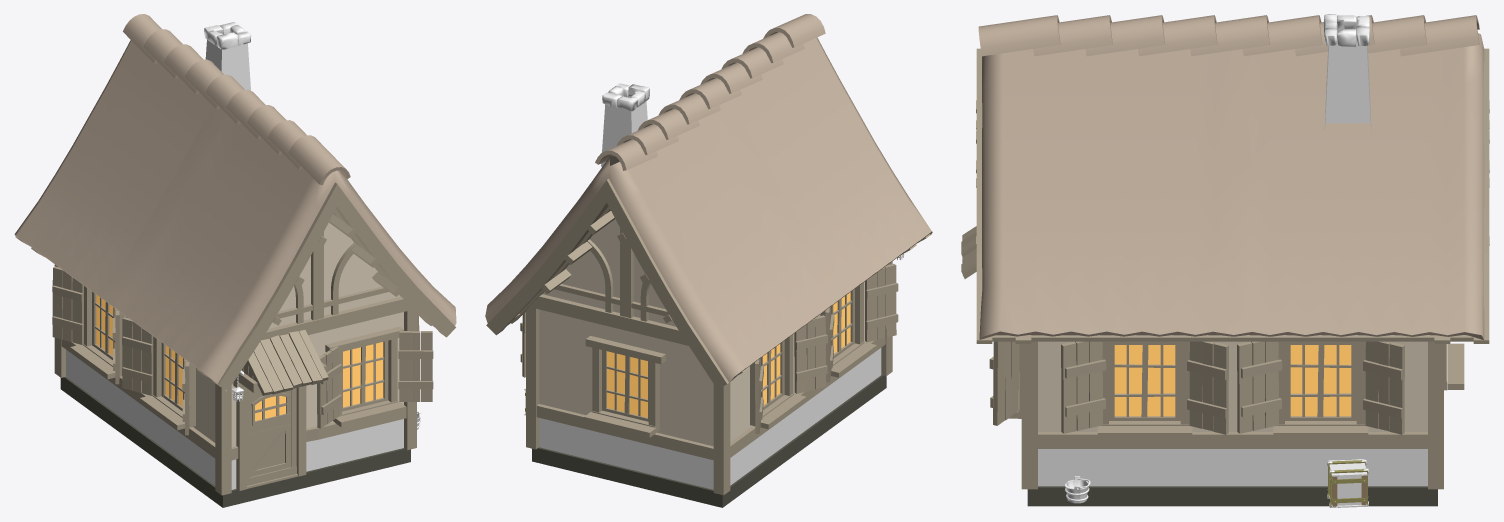
Rendered from eastbrook_shuttered.glb.
3 renders of one model, left to right at view 1: azimuth 30°, elevation 25°; view 2: azimuth 150°, elevation 25°; view 3: azimuth 270°, elevation 25°, orthographic. The views are drawn at different scales.
Visible parts, largest first — view 1: village/MI_RoundTiles, village/MI_WoodTrim, village/MI_WoodTrim_Wear, village/MI_Plaster, village/MI_UnevenBrick, object 8, village/MI_WindowGlass, village/MI_RockTrim, village/MI_Brick; view 2: village/MI_RoundTiles, village/MI_WoodTrim, village/MI_Plaster, village/MI_UnevenBrick, object 8, village/MI_WoodTrim_Wear, village/MI_WindowGlass, village/MI_Brick, village/MI_RockTrim; view 3: village/MI_RoundTiles, village/MI_WoodTrim, village/MI_WoodTrim_Wear, village/MI_UnevenBrick, object 8, village/MI_WindowGlass, village/MI_Plaster, village/MI_Brick, props/MI_Trim_Furniture, village/MI_RockTrim.
Boxes of the visible parts, x1=… form: village/MI_RoundTiles: x1=14, y1=14, x2=456, y2=384; village/MI_WoodTrim: x1=15, y1=182, x2=455, y2=495; village/MI_WoodTrim_Wear: x1=52, y1=266, x2=433, y2=435; village/MI_Plaster: x1=126, y1=222, x2=403, y2=446; village/MI_UnevenBrick: x1=66, y1=349, x2=403, y2=485; object 8: x1=60, y1=377, x2=410, y2=507; village/MI_WindowGlass: x1=96, y1=295, x2=383, y2=420; village/MI_RockTrim: x1=204, y1=22, x2=316, y2=489; village/MI_Brick: x1=205, y1=40, x2=250, y2=90; village/MI_RoundTiles: x1=485, y1=14, x2=932, y2=382; village/MI_WoodTrim: x1=486, y1=178, x2=932, y2=495; village/MI_Plaster: x1=539, y1=219, x2=866, y2=446; village/MI_UnevenBrick: x1=539, y1=348, x2=881, y2=489; object 8: x1=532, y1=375, x2=886, y2=507; village/MI_WoodTrim_Wear: x1=520, y1=264, x2=898, y2=433; village/MI_WindowGlass: x1=607, y1=292, x2=850, y2=417; village/MI_Brick: x1=601, y1=96, x2=647, y2=166; village/MI_RockTrim: x1=602, y1=83, x2=649, y2=111; village/MI_RoundTiles: x1=978, y1=15, x2=1484, y2=339; village/MI_WoodTrim: x1=976, y1=48, x2=1489, y2=489; village/MI_WoodTrim_Wear: x1=961, y1=226, x2=1404, y2=434; village/MI_UnevenBrick: x1=1038, y1=449, x2=1427, y2=486; object 8: x1=1027, y1=486, x2=1437, y2=506; village/MI_WindowGlass: x1=1114, y1=345, x2=1351, y2=416; village/MI_Plaster: x1=1038, y1=341, x2=1427, y2=431; village/MI_Brick: x1=1324, y1=23, x2=1371, y2=134; props/MI_Trim_Furniture: x1=1328, y1=459, x2=1367, y2=507; village/MI_RockTrim: x1=1324, y1=14, x2=1369, y2=46.
Bounding box in the file's own units: 5.59 × 7.3 × 7.81.
